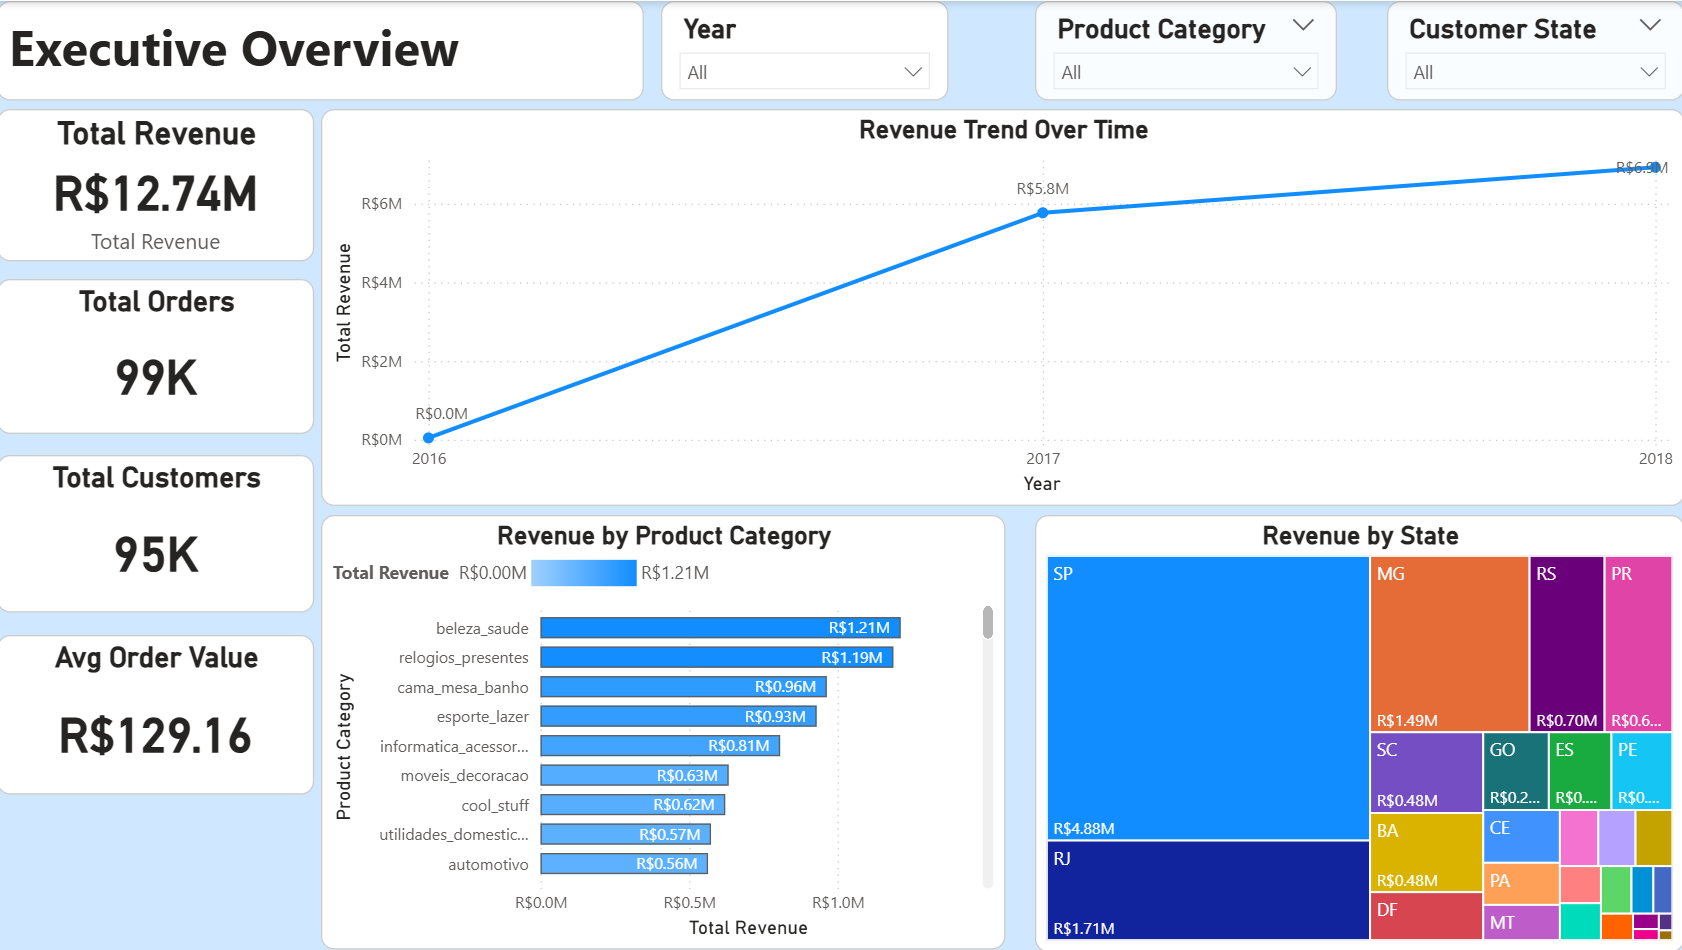

This screenshot's page, from the dashboard's own definition file:
{"tool":"powerbi","page":{"name":"Executive Overview","canvas":[1280,720],"ordinal":0},"visuals":[{"type":"card","title":"Total Revenue","fields":{"Values":["Olist Orders.Total Revenue"]},"box":[0,81.4,240.5,115.5],"z":0},{"type":"card","title":"Total Orders","fields":{"Values":["Olist Orders.Total Orders"]},"box":[0,210.2,240.5,117.4],"z":1000},{"type":"card","title":"Total Customers","fields":{"Values":["Olist Orders.Total Customers"]},"box":[0,344.6,240.5,119.3],"z":2000},{"type":"card","title":"Avg Order Value","fields":{"Values":["Olist Orders.Avg Order Value"]},"box":[0,480.9,240.5,121.2],"z":3000},{"type":"lineChart","title":"Revenue Trend Over Time","fields":{"Category":["Date Table.Date.Variation.Date Hierarchy.Year","Date Table.Date.Variation.Date Hierarchy.Month"],"Y":["Olist Orders.Total Revenue"]},"box":[246.2,81.4,1033.8,301.1],"z":4000},{"type":"clusteredBarChart","title":"Revenue by Product Category","fields":{"Category":["Olist Orders.Product Category"],"Y":["Olist Orders.Total Revenue"]},"box":[246.2,390.1,518.8,329.5],"z":5000},{"type":"treemap","title":"Revenue by State","fields":{"Group":["Olist Orders.Customer State"],"Values":["Olist Orders.Total Revenue"]},"box":[787.7,390.1,492.3,331.4],"z":6000},{"type":"slicer","title":"Product Category","fields":{"Values":["Olist Orders.Product Category"]},"box":[787.7,0,229.1,75.7],"z":7000},{"type":"slicer","fields":{"Values":["Date Table.Year"]},"box":[503.7,0,217.8,75.7],"z":8000},{"type":"slicer","fields":{"Values":["Olist Orders.Customer State"]},"box":[1054.7,0,225.3,75.7],"z":9000},{"type":"textbox","box":[0,0,490.4,75.7],"z":10000}]}

Visuals, with their boxes in screenshot pixels (x1, y1, x2, y2), scaled from the page's 1280x720 canvas onto the 1682x950 screenshot:
"Total Revenue" card: x1=0 y1=107 x2=316 y2=260
"Total Orders" card: x1=0 y1=277 x2=316 y2=432
"Total Customers" card: x1=0 y1=455 x2=316 y2=612
"Avg Order Value" card: x1=0 y1=635 x2=316 y2=794
"Revenue Trend Over Time" lineChart: x1=324 y1=107 x2=1681 y2=505
"Revenue by Product Category" clusteredBarChart: x1=324 y1=515 x2=1005 y2=949
"Revenue by State" treemap: x1=1035 y1=515 x2=1681 y2=949
"Product Category" slicer: x1=1035 y1=0 x2=1336 y2=100
slicer - Date Table.Year: x1=662 y1=0 x2=948 y2=100
slicer - Olist Orders.Customer State: x1=1386 y1=0 x2=1681 y2=100
textbox: x1=0 y1=0 x2=644 y2=100
